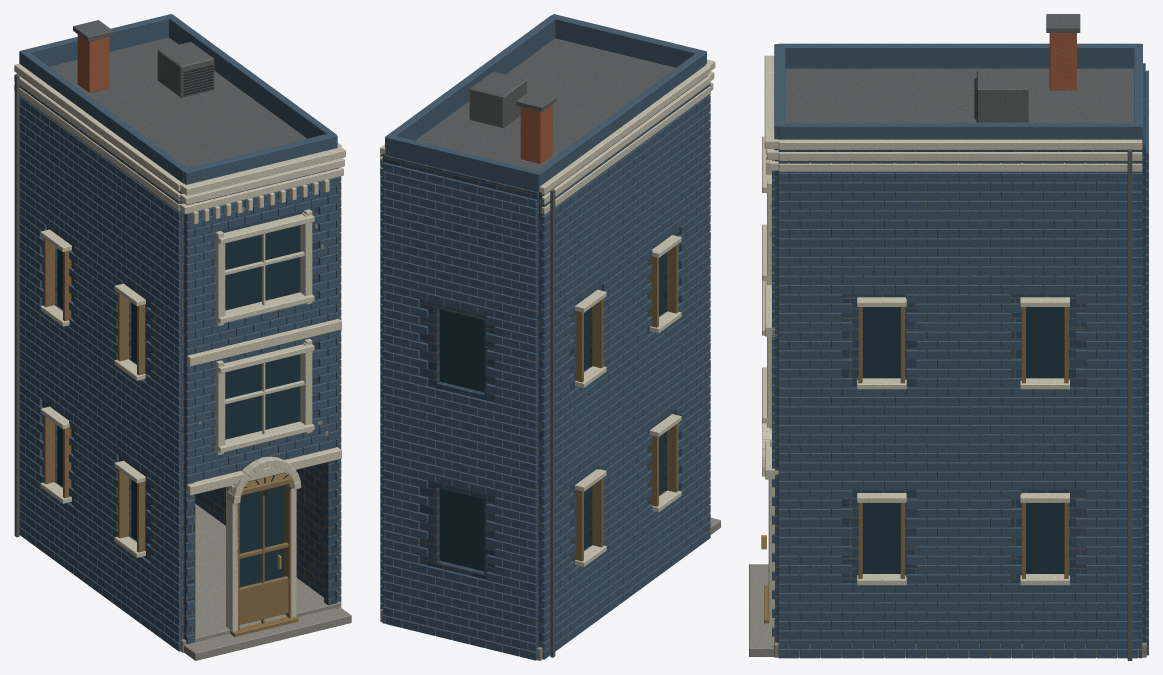
File: OFFC11_lod0.glb
3 renders of one model, left to right at view 1: azimuth 30°, elevation 25°; view 2: azimuth 150°, elevation 25°; view 3: azimuth 270°, elevation 25°, orthographic. The views are drawn at different scales.
Visible parts, largest first — view 1: OFFC11_LOD0; view 2: OFFC11_LOD0; view 3: OFFC11_LOD0.
Part boxes in pixels (<box>): OFFC11_LOD0: <box>14,14,351,660</box>; OFFC11_LOD0: <box>380,14,720,660</box>; OFFC11_LOD0: <box>749,14,1148,660</box>.
Bounding box in the file's own units: 3.71 × 10.45 × 6.6.
Materials: 13 (10 with a texture image).
